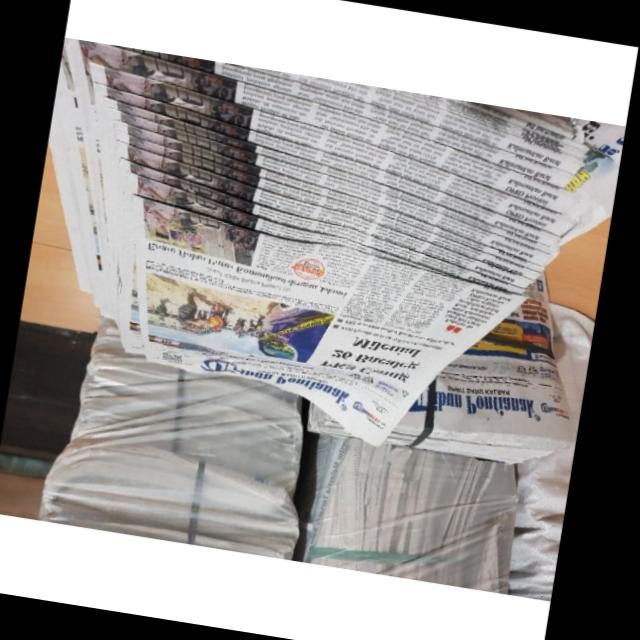Koran: (9, 38, 624, 476)
